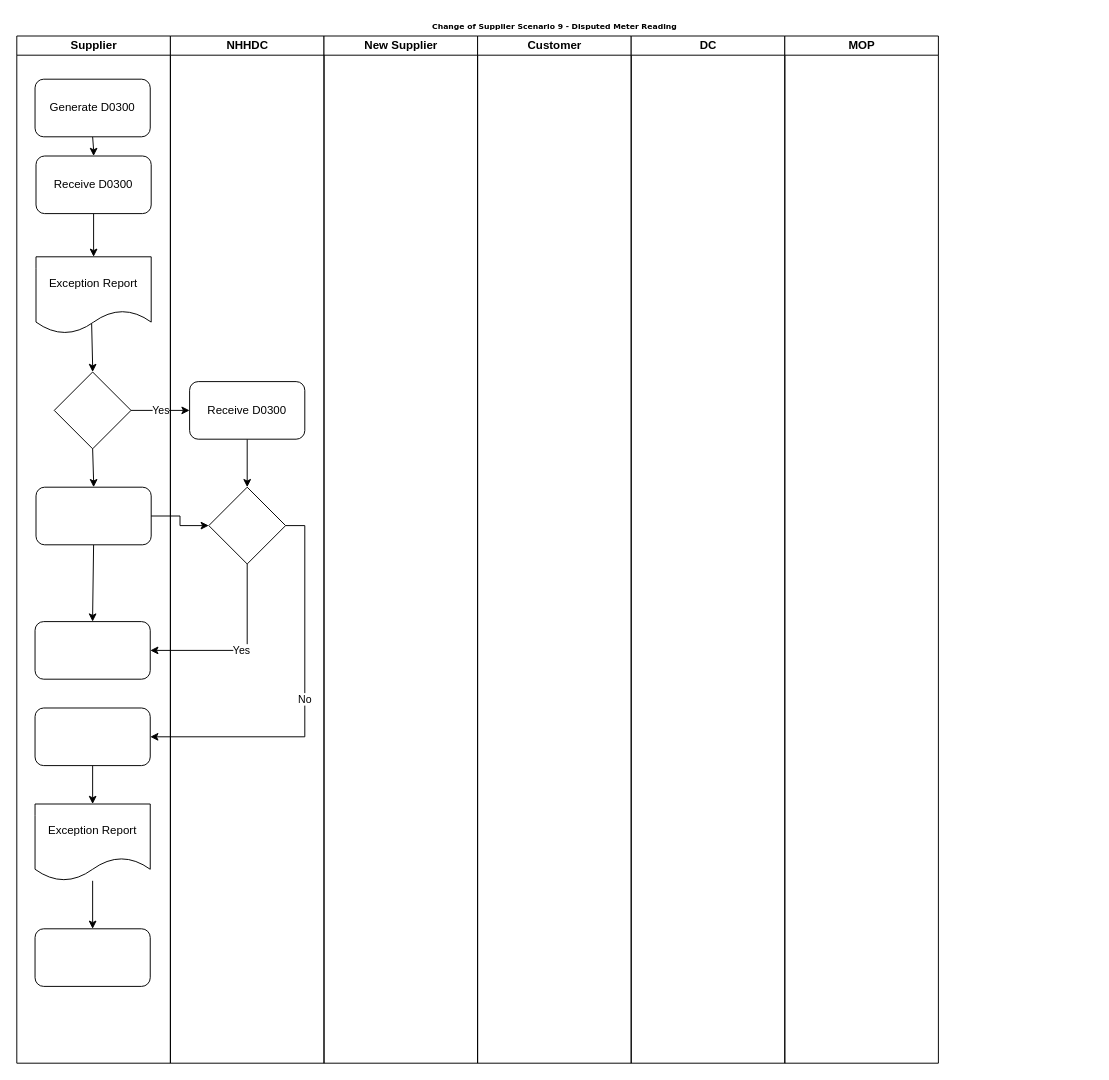
The diagram is 1109 pixels wide and 1080 high, and some of its shapes have lost their labels. The shapes that lost their labels are listed below. From the top down, each one's centre as x and y in pixels, then its label:
At (92,410): "Accept Reading?".
At (93,515): "Generate D0072".
At (247,525): "Able to generate reading?".
At (92,650): "Receive D0086".
At (92,736): "Receive D0004".
At (92,957): "Generate D0005".
